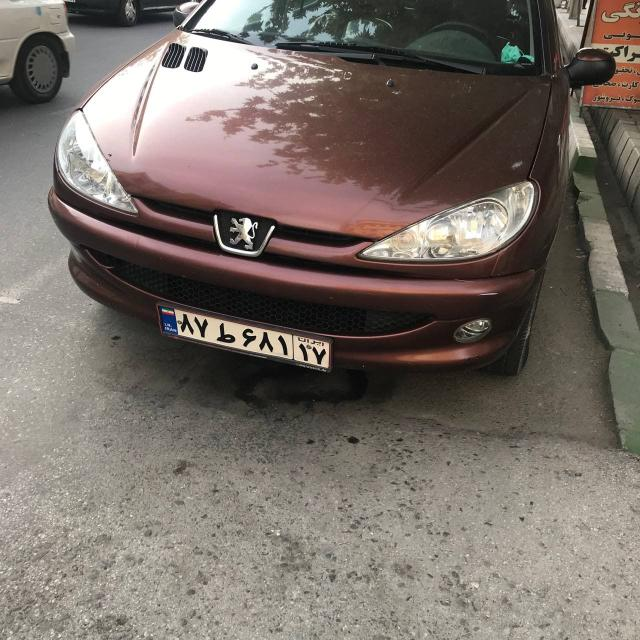Plates: (153, 306, 334, 368)
